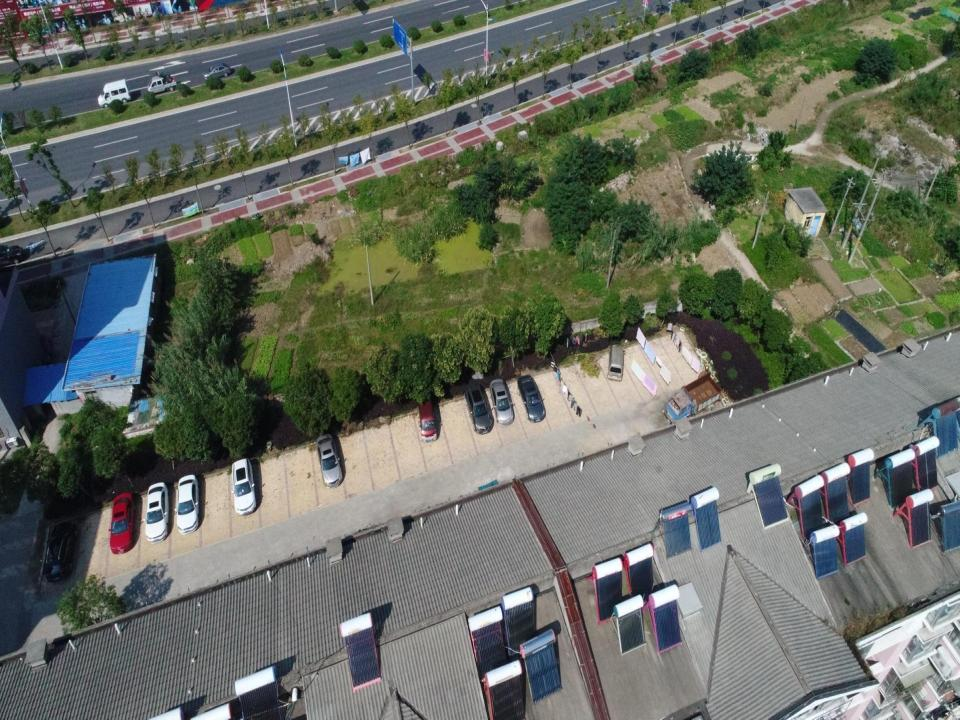car: (43, 520, 79, 583), (108, 492, 137, 554), (143, 482, 169, 543), (174, 474, 200, 534), (231, 458, 257, 516), (316, 433, 343, 488), (464, 384, 492, 435), (517, 374, 546, 422), (490, 378, 513, 426), (203, 62, 232, 82)
truck: (664, 373, 723, 424), (146, 71, 177, 95)
van: (98, 80, 131, 108), (417, 396, 437, 442), (607, 346, 625, 381)
